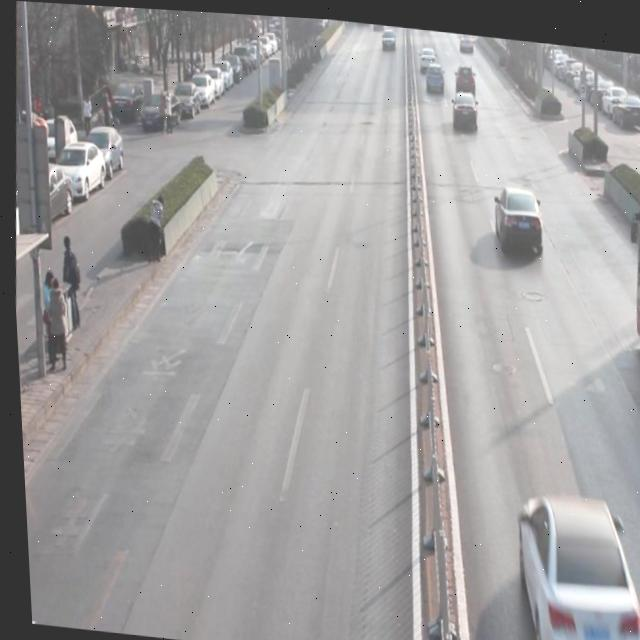car: (504, 479, 640, 640), (488, 175, 545, 253), (449, 85, 479, 130), (424, 55, 446, 90), (453, 58, 476, 89)
van: (620, 187, 640, 465)
